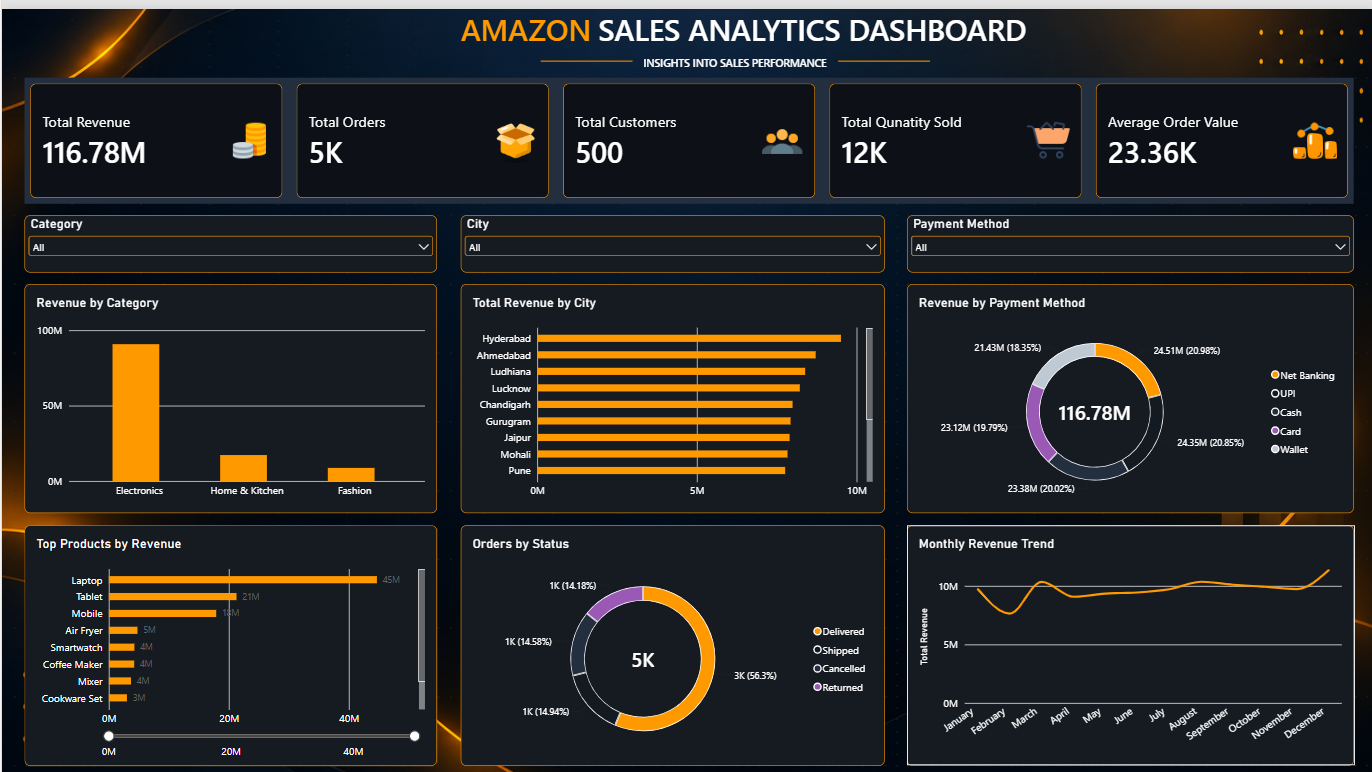

The page's visual inventory and layout, read from the dashboard file:
{"tool":"powerbi","page":{"name":"Page 1","canvas":[1920,1080],"ordinal":0},"visuals":[{"type":"lineChart","title":" Monthly Revenue Trend","fields":{"Category":["amazon_sales_data.OrderDate.Variation.Date Hierarchy.Year"],"Y":["amazon_sales_data.Total Revenue"]},"box":[1224,720,624,336],"z":0},{"type":"cardVisual","fields":{"Data":["amazon_sales_data.Total Revenue"]},"box":[24,144,264,96],"z":1000},{"type":"cardVisual","fields":{"Data":["amazon_sales_data.Total Orders"]},"box":[408,144,256,96],"z":1000,"group":"g1"},{"type":"cardVisual","fields":{"Data":["amazon_sales_data.Total Customers"]},"box":[792,144,258,100],"z":2000,"group":"g2"},{"type":"clusteredColumnChart","title":"Revenue by Category","fields":{"Category":["amazon_sales_data.Category"],"Y":["amazon_sales_data.Total Revenue"]},"box":[24,384,456,312],"z":2000},{"type":"cardVisual","fields":{"Data":["amazon_sales_data.Total Qunatity"]},"box":[1176,144,258,100],"z":3000,"group":"g3"},{"type":"clusteredBarChart","title":"Total Revenue by City","fields":{"Category":["amazon_sales_data.City"],"Y":["amazon_sales_data.Total Revenue"]},"box":[528,360,624,336],"z":3000},{"type":"cardVisual","fields":{"Data":["amazon_sales_data.Average Order Value"]},"box":[1584,144,258,100],"z":4000,"group":"g4"},{"type":"clusteredBarChart","title":"Top Products by Revenue ","fields":{"Category":["amazon_sales_data.Product"],"Y":["amazon_sales_data.Total Revenue"]},"box":[24,720,552,312],"z":4000},{"type":"donutChart","title":"Revenue by Payment Method","fields":{"Category":["amazon_sales_data.PaymentMethod"],"Y":["amazon_sales_data.Total Revenue"]},"box":[1224,360,624,336],"z":5000},{"type":"donutChart","title":" Orders by Status","fields":{"Category":["amazon_sales_data.OrderStatus"],"Y":["amazon_sales_data.Total Orders"]},"box":[600,744,552,312],"z":6000},{"type":"slicer","fields":{"Values":["amazon_sales_data.Category"]},"box":[16,272,512,80],"z":7000},{"type":"slicer","fields":{"Values":["amazon_sales_data.City"]},"box":[576,272,544,80],"z":8000},{"type":"slicer","fields":{"Values":["amazon_sales_data.PaymentMethod"]},"box":[1216,272,624,80],"z":9000},{"type":"group","id":"g1","title":"Group 2","box":[408,144,264,96],"z":10000},{"type":"group","id":"g2","title":"Group 3","box":[792,144,264,96],"z":11000},{"type":"group","id":"g3","title":"Group 4","box":[1176,144,240,96],"z":12000},{"type":"group","id":"g4","title":"Group 5","box":[1584,144,264,96],"z":13000}]}

Visuals, with their boxes in screenshot pixels (x1, y1, x2, y2), scaled from the page's 1920x1080 canvas onto the 1372x772 screenshot:
" Monthly Revenue Trend" lineChart: [left=875, top=515, right=1321, bottom=755]
cardVisual - amazon_sales_data.Total Revenue: [left=17, top=103, right=206, bottom=172]
cardVisual - amazon_sales_data.Total Orders: [left=292, top=103, right=474, bottom=172]
cardVisual - amazon_sales_data.Total Customers: [left=566, top=103, right=750, bottom=174]
"Revenue by Category" clusteredColumnChart: [left=17, top=274, right=343, bottom=498]
cardVisual - amazon_sales_data.Total Qunatity: [left=840, top=103, right=1025, bottom=174]
"Total Revenue by City" clusteredBarChart: [left=377, top=257, right=823, bottom=498]
cardVisual - amazon_sales_data.Average Order Value: [left=1132, top=103, right=1316, bottom=174]
"Top Products by Revenue " clusteredBarChart: [left=17, top=515, right=412, bottom=738]
"Revenue by Payment Method" donutChart: [left=875, top=257, right=1321, bottom=498]
" Orders by Status" donutChart: [left=429, top=532, right=823, bottom=755]
slicer - amazon_sales_data.Category: [left=11, top=194, right=377, bottom=252]
slicer - amazon_sales_data.City: [left=412, top=194, right=800, bottom=252]
slicer - amazon_sales_data.PaymentMethod: [left=869, top=194, right=1315, bottom=252]
"Group 2" group: [left=292, top=103, right=480, bottom=172]
"Group 3" group: [left=566, top=103, right=755, bottom=172]
"Group 4" group: [left=840, top=103, right=1012, bottom=172]
"Group 5" group: [left=1132, top=103, right=1321, bottom=172]
